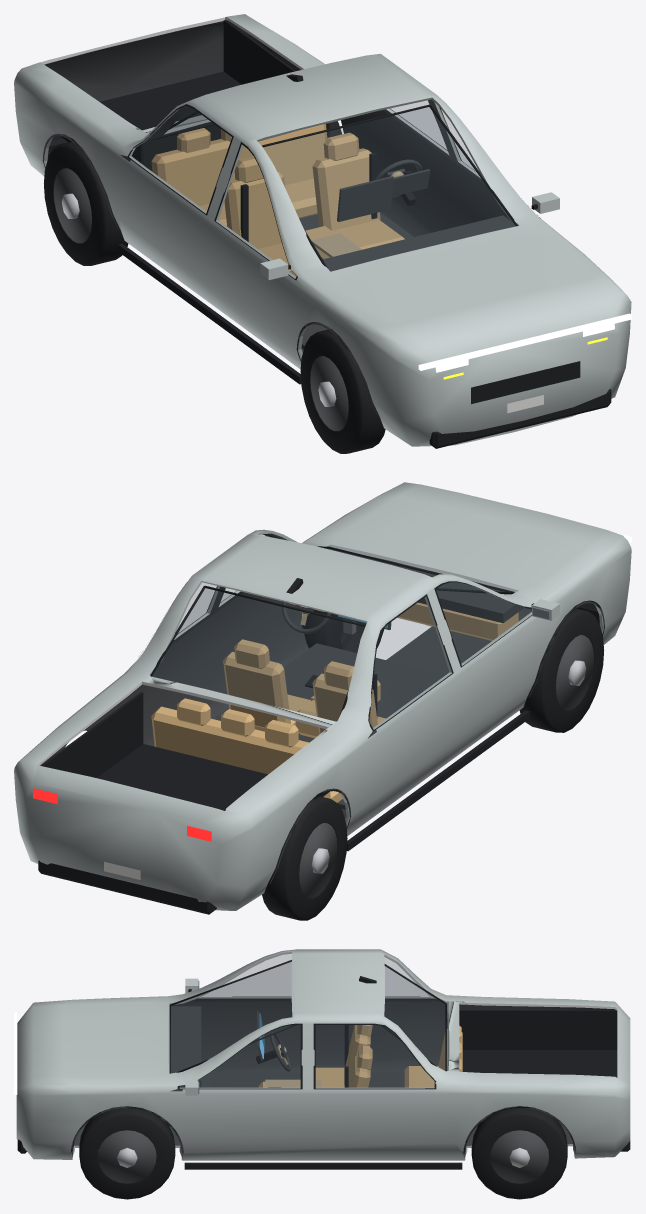
File: fleet-cybertruck.glb
The picture shows the model from 3 angles, top to bottom: view 1: azimuth 30°, elevation 25°; view 2: azimuth 150°, elevation 25°; view 3: azimuth 270°, elevation 25°; orthographic projection. The views are drawn at different scales.
Parts seen in each view (by area): view 1: Body, Surface_CarRoot_Glass, Surface_CarRoot_BlackTrim, Interior_CarRoot_InteriorLeather, Interior_CarRoot_InteriorDark, Surface_WheelFrontR_Tyre, Surface_WheelRearR_Tyre, Surface_CarRoot_Headlight, WheelFrontR_Rim, WheelRearR_Rim, InteriorSeatBaseL, Surface_CarRoot_Paint (+3 smaller); view 2: Body, Surface_CarRoot_Glass, Surface_CarRoot_BlackTrim, Interior_CarRoot_InteriorLeather, Interior_CarRoot_InteriorDark, Surface_WheelRearR_Tyre, Surface_WheelFrontR_Tyre, WheelRearR_Rim, WheelFrontR_Rim, Surface_WheelFrontL_Tyre, Surface_CarRoot_Cladding; view 3: Body, Surface_CarRoot_Glass, Surface_CarRoot_BlackTrim, Surface_WheelFrontL_Tyre, Surface_WheelRearL_Tyre, Interior_CarRoot_InteriorDark, Interior_CarRoot_InteriorLeather, WheelFrontL_Rim, WheelRearL_Rim, Surface_CarRoot_Cladding, Interior_CarRoot_BlackTrim, Surface_CarRoot_Paint (+1 smaller).
Part boxes in pixels (x1,y1,x2,y2): Body: [14, 14, 631, 446]; Surface_CarRoot_Glass: [129, 101, 515, 277]; Surface_CarRoot_BlackTrim: [47, 20, 611, 448]; Interior_CarRoot_InteriorLeather: [151, 124, 380, 276]; Interior_CarRoot_InteriorDark: [299, 169, 515, 349]; Surface_WheelFrontR_Tyre: [300, 329, 385, 453]; Surface_WheelRearR_Tyre: [44, 141, 128, 265]; Surface_CarRoot_Headlight: [418, 313, 631, 372]; WheelFrontR_Rim: [310, 356, 348, 430]; WheelRearR_Rim: [54, 168, 91, 242]; InteriorSeatBaseL: [332, 219, 404, 249]; Surface_CarRoot_Paint: [260, 192, 559, 279]; Body: [14, 482, 631, 910]; Surface_CarRoot_Glass: [152, 534, 531, 728]; Surface_CarRoot_BlackTrim: [38, 534, 599, 914]; Interior_CarRoot_InteriorLeather: [151, 602, 518, 802]; Interior_CarRoot_InteriorDark: [213, 549, 524, 809]; Surface_WheelRearR_Tyre: [262, 795, 347, 920]; Surface_WheelFrontR_Tyre: [519, 607, 604, 732]; WheelRearR_Rim: [299, 823, 337, 897]; WheelFrontR_Rim: [556, 635, 594, 709]; Surface_WheelFrontL_Tyre: [302, 610, 384, 652]; Surface_CarRoot_Cladding: [85, 600, 604, 883]; Body: [16, 949, 630, 1160]; Surface_CarRoot_Glass: [171, 954, 445, 1088]; Surface_CarRoot_BlackTrim: [17, 960, 630, 1169]; Surface_WheelFrontL_Tyre: [79, 1106, 175, 1199]; Surface_WheelRearL_Tyre: [471, 1106, 567, 1199]; Interior_CarRoot_InteriorDark: [171, 1006, 404, 1087]; Interior_CarRoot_InteriorLeather: [258, 1025, 462, 1087]; WheelFrontL_Rim: [98, 1130, 156, 1183]; WheelRearL_Rim: [490, 1130, 548, 1183]; Surface_CarRoot_Cladding: [70, 1106, 576, 1153]; Interior_CarRoot_BlackTrim: [256, 1025, 348, 1087]; Surface_CarRoot_Paint: [185, 978, 198, 1095].
Size of the model in its own units: 2.38 by 1.82 by 5.72.
